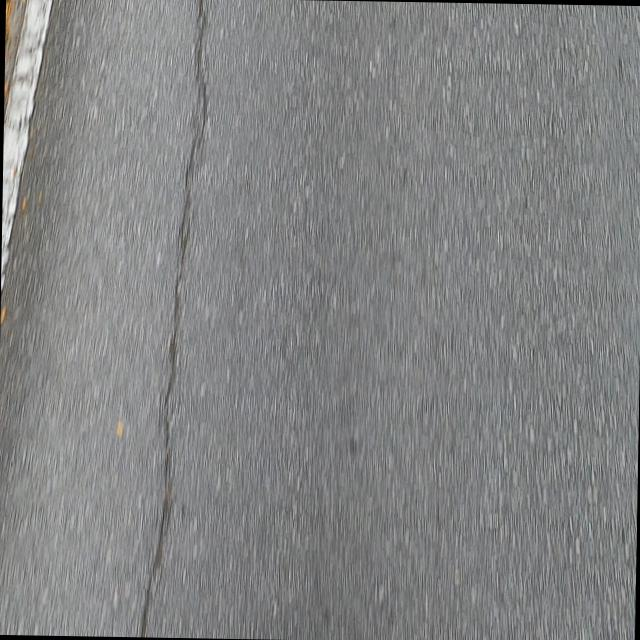Retak-Memanjang: (133, 0, 210, 637)
